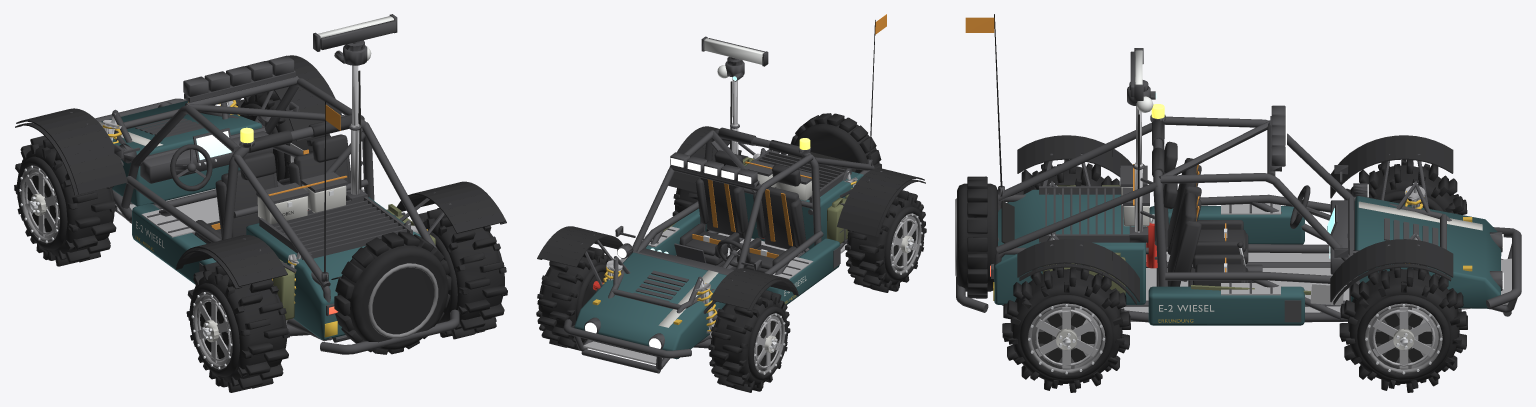
The model's file is Wiesel.glb.
The picture shows the model from 3 angles, left to right: view 1: azimuth 30°, elevation 25°; view 2: azimuth 150°, elevation 25°; view 3: azimuth 270°, elevation 25°; orthographic projection. The views are drawn at different scales.
Visible parts, largest first — view 1: Aufbau__lack, Aufbau__matt, Rad_HL__matt, Aufbau__metall, Rad_HR__matt, Rad_VL__matt, Sensor__lack, Rad_VR__matt, Rad_VL__metall, Rad_HL__metall, Aufbau__glow_Bordschirm, Sensor__matt; view 2: Aufbau__lack, Aufbau__matt, Rad_VL__matt, Rad_VR__matt, Rad_HL__matt, Aufbau__metall, Aufbau__glow_Werftlampe, Rad_HL__metall, Sensor__matt, Rad_VL__metall, Rad_HR__matt, Sensor__lack; view 3: Aufbau__lack, Aufbau__matt, Aufbau__metall, Rad_HR__matt, Rad_VR__matt, Rad_VL__matt, Rad_VR__metall, Rad_HR__metall, Rad_HL__matt, Sensor__lack.
Part boxes in pixels (left/top/right/bottom): Aufbau__lack: left=70, top=45, right=459, bottom=354; Aufbau__matt: left=15, top=46, right=506, bottom=376; Rad_HL__matt: left=186, top=262, right=289, bottom=392; Aufbau__metall: left=20, top=65, right=438, bottom=369; Rad_HR__matt: left=418, top=208, right=507, bottom=339; Rad_VL__matt: left=14, top=136, right=117, bottom=266; Sensor__lack: left=313, top=14, right=397, bottom=51; Rad_VR__matt: left=236, top=90, right=330, bottom=180; Rad_VL__metall: left=19, top=165, right=59, bottom=243; Rad_HL__metall: left=191, top=292, right=232, bottom=369; Aufbau__glow_Bordschirm: left=196, top=131, right=231, bottom=159; Sensor__matt: left=318, top=16, right=393, bottom=49; Aufbau__lack: left=563, top=61, right=882, bottom=373; Aufbau__matt: left=537, top=14, right=925, bottom=380; Rad_VL__matt: left=708, top=290, right=790, bottom=392; Rad_VR__matt: left=536, top=247, right=609, bottom=350; Rad_HL__matt: left=845, top=190, right=926, bottom=292; Aufbau__metall: left=583, top=80, right=921, bottom=374; Aufbau__glow_Werftlampe: left=585, top=158, right=751, bottom=348; Rad_HL__metall: left=890, top=213, right=922, bottom=274; Sensor__matt: left=704, top=38, right=764, bottom=64; Rad_VL__metall: left=754, top=313, right=786, bottom=374; Rad_HR__matt: left=672, top=147, right=748, bottom=231; Sensor__lack: left=701, top=36, right=768, bottom=66; Aufbau__lack: left=956, top=86, right=1521, bottom=325; Aufbau__matt: left=957, top=14, right=1453, bottom=380; Aufbau__metall: left=955, top=106, right=1511, bottom=373; Rad_HR__matt: left=1002, top=263, right=1130, bottom=392; Rad_VR__matt: left=1339, top=263, right=1467, bottom=392; Rad_VL__matt: left=1344, top=159, right=1467, bottom=214; Rad_VR__metall: left=1365, top=304, right=1442, bottom=374; Rad_HR__metall: left=1028, top=304, right=1105, bottom=374; Rad_HL__matt: left=1007, top=159, right=1119, bottom=202; Sensor__lack: left=1129, top=48, right=1148, bottom=100.
Size of the model in its own units: 2.67 by 2.66 by 4.7.
